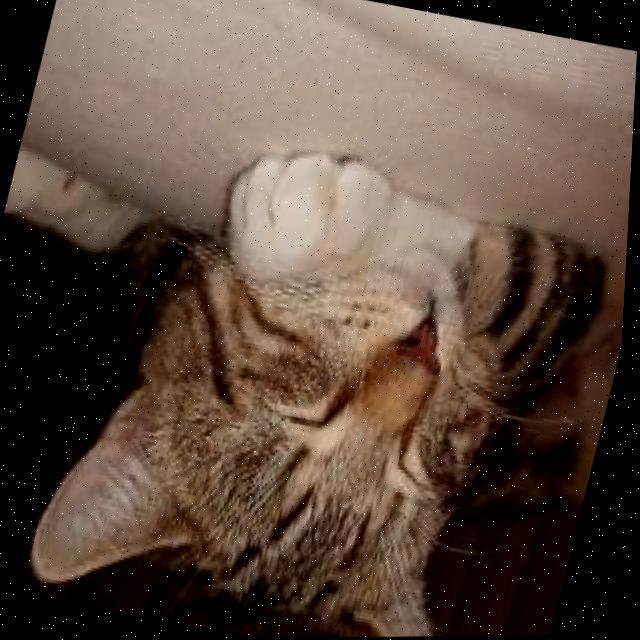Bengal: (14, 102, 636, 640)
